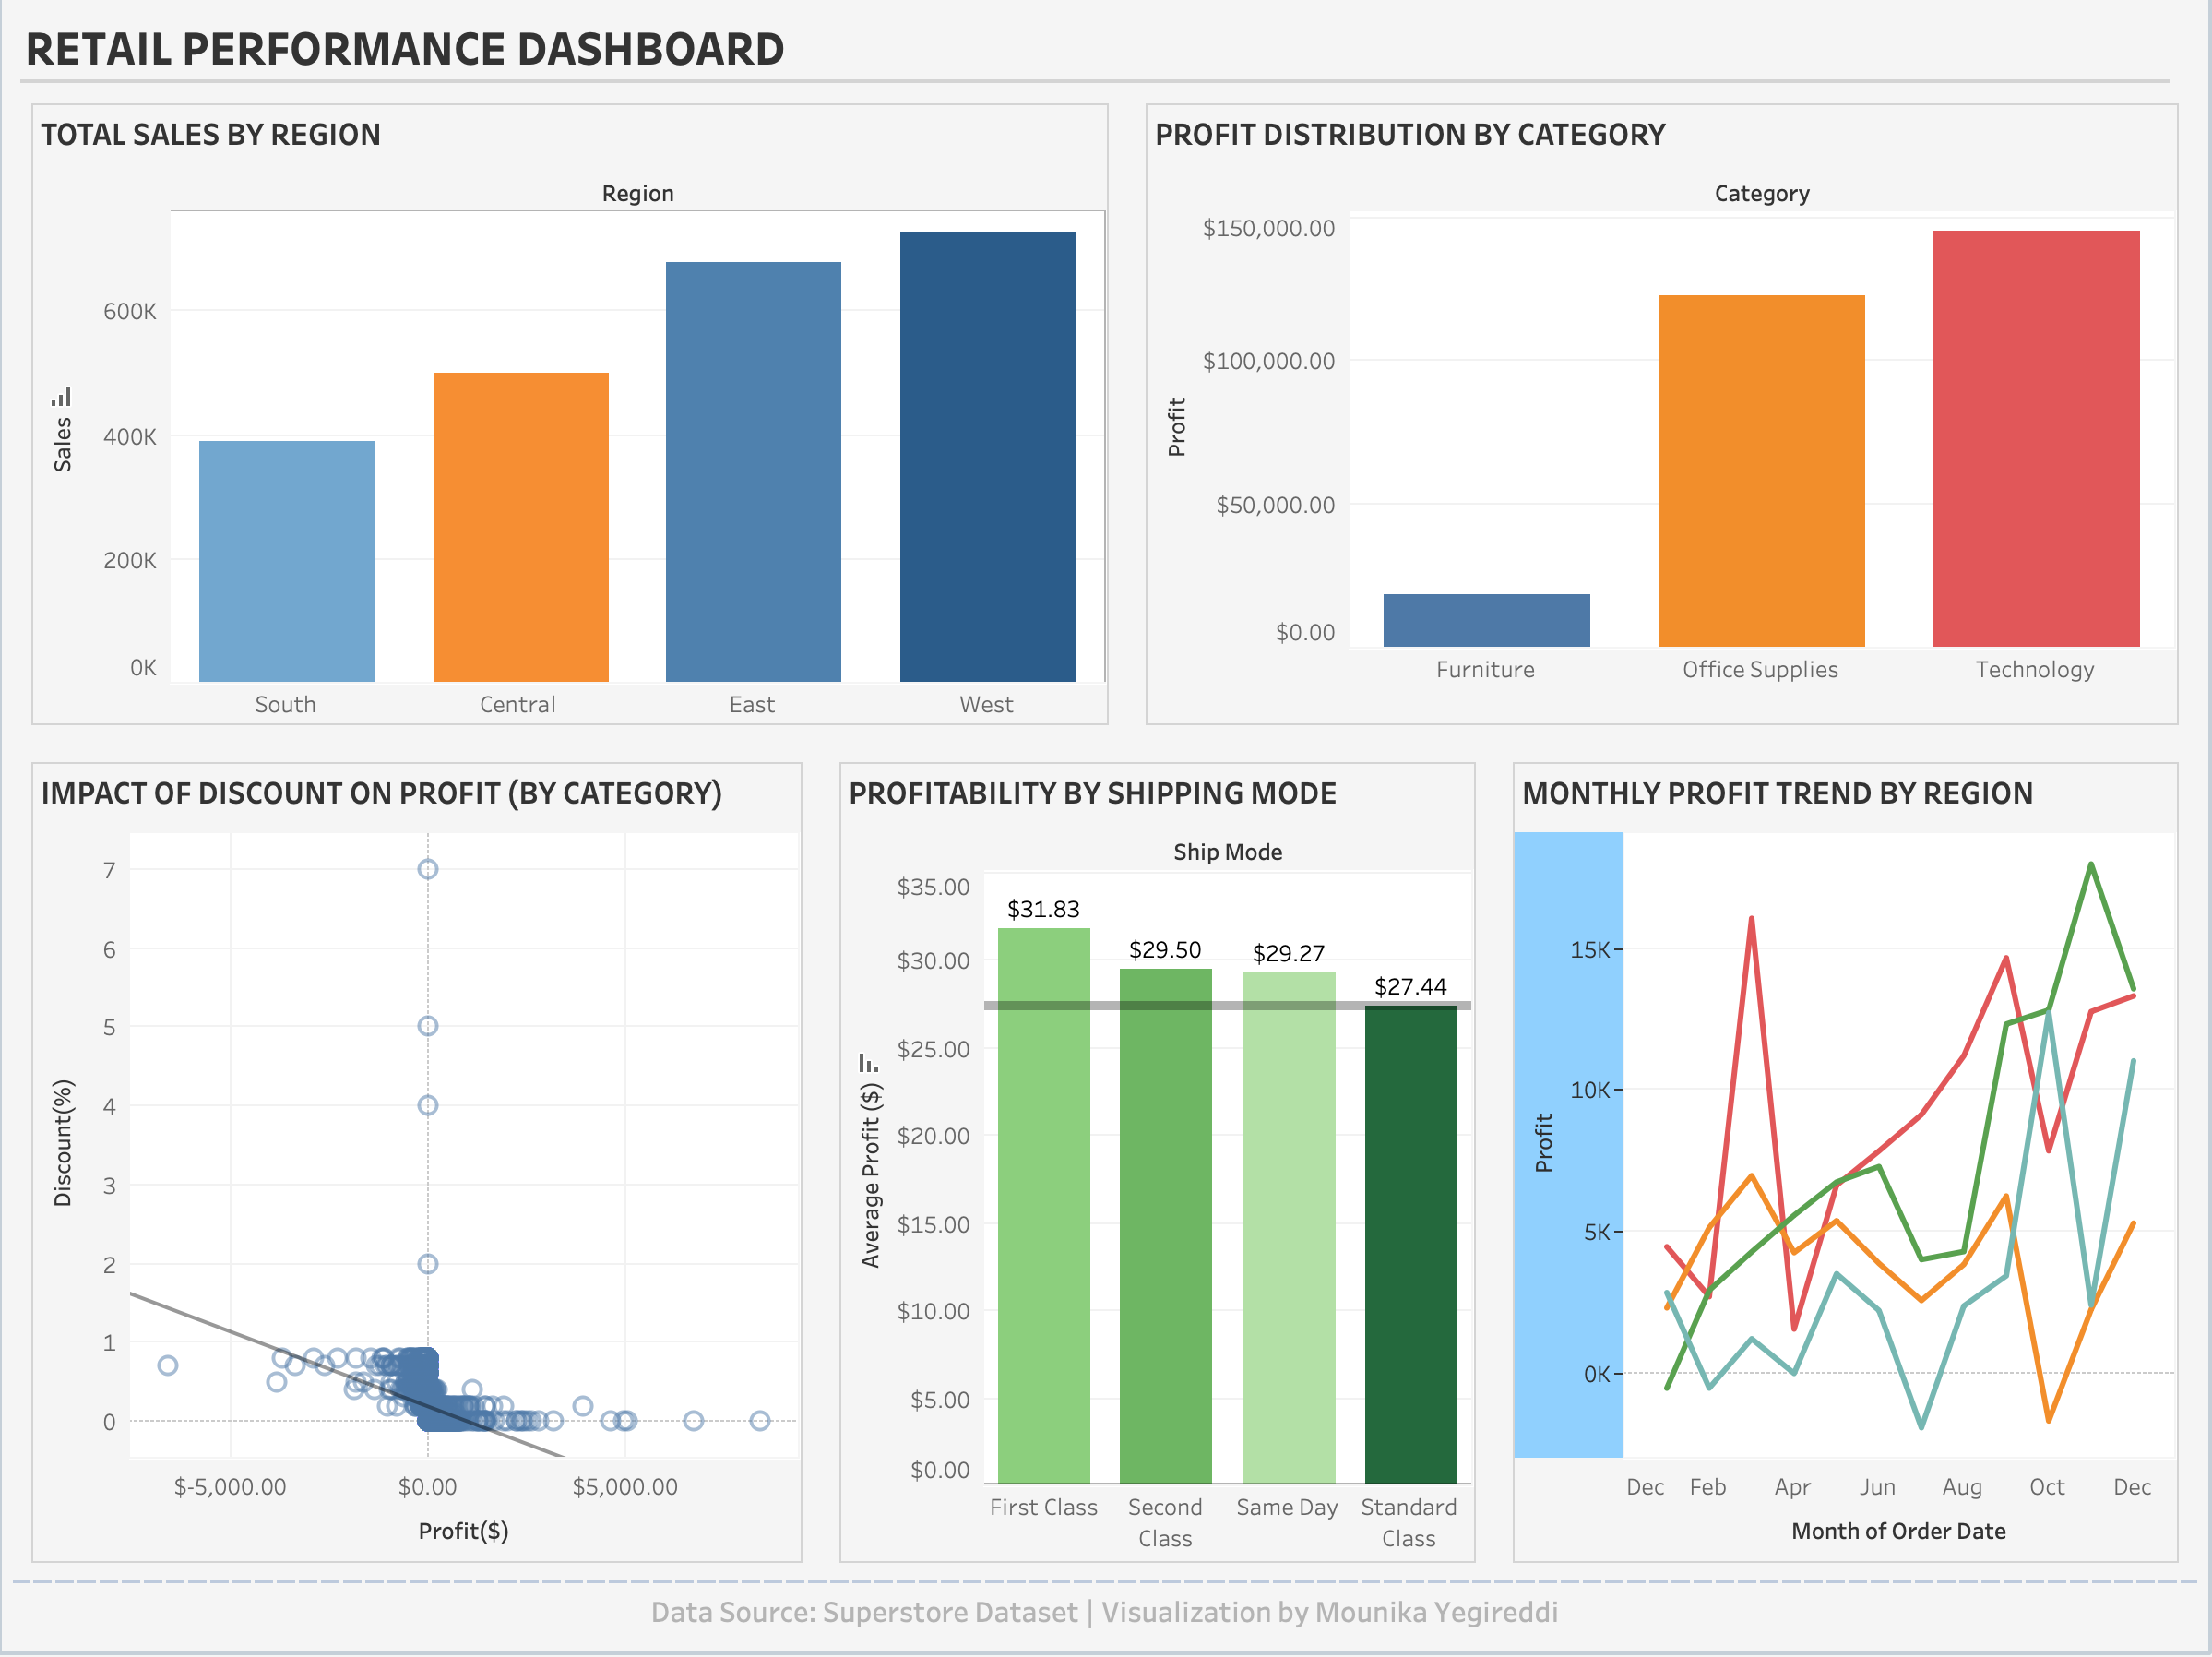

What the dashboard file says about the page in this screenshot:
{"tool":"tableau","page":{"name":"Dashboard 1","canvas":[1200,900],"ordinal":0},"visuals":[{"type":"title","box":[8,8,1184,41]},{"type":"blank","box":[12,46,1165,2]},{"type":"worksheet","title":"TOTAL SALES BY REGION","mark":"Automatic","rows":["Sales"],"cols":["Region"],"box":[8,49,604,355.2]},{"type":"worksheet","title":"PROFIT DISTRIBUTION BY CATEGORY","mark":"Automatic","rows":["Profit"],"cols":["Category"],"box":[612,49,580,355.2]},{"type":"worksheet","title":"IMPACT OF DISCOUNT ON PROFIT (BY CATEGORY)","mark":"Automatic","rows":["Discount"],"cols":["Profit"],"box":[8,404.2,438,451.8]},{"type":"worksheet","title":"PROFITABILITY BY SHIPPING MODE","mark":"Automatic","rows":["Profit"],"cols":["Ship Mode"],"box":[446,404.2,365,451.8]},{"type":"worksheet","title":"MONTHLY PROFIT TREND BY REGION","mark":"Automatic","rows":["Profit"],"cols":["Order Date"],"box":[811,404.2,381,451.8]},{"type":"text","box":[8,856,1184,36]}]}

Visuals, with their boxes in screenshot pixels (x1, y1, x2, y2), scaled from the page's 1200x900 canvas onto the 2212x1657 screenshot:
title: bbox(15, 15, 2197, 90)
blank: bbox(22, 85, 2170, 89)
"TOTAL SALES BY REGION" worksheet: bbox(15, 90, 1128, 745)
"PROFIT DISTRIBUTION BY CATEGORY" worksheet: bbox(1128, 90, 2197, 745)
"IMPACT OF DISCOUNT ON PROFIT (BY CATEGORY)" worksheet: bbox(15, 745, 822, 1576)
"PROFITABILITY BY SHIPPING MODE" worksheet: bbox(822, 745, 1495, 1576)
"MONTHLY PROFIT TREND BY REGION" worksheet: bbox(1495, 745, 2197, 1576)
text: bbox(15, 1576, 2197, 1642)
